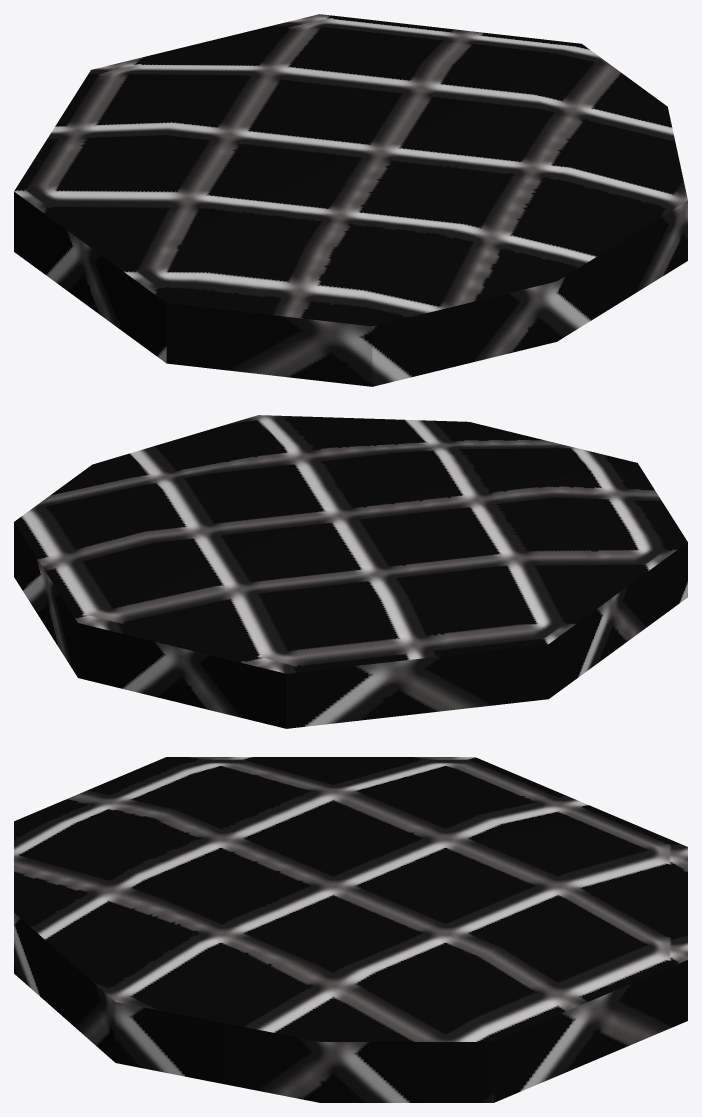
Rendered from ground.fbx.
3 renders of one model, top to bottom at view 1: azimuth 30°, elevation 25°; view 2: azimuth 150°, elevation 25°; view 3: azimuth 270°, elevation 25°, orthographic. The views are drawn at different scales.
Parts seen in each view (by area): view 1: ground; view 2: ground; view 3: ground.
Boxes of the visible parts, x1,y1,x2,y2 form: ground: (14,14,687,386); ground: (14,415,687,728); ground: (14,757,687,1102).
Size of the model in its own units: 200 by 25.78 by 200.
